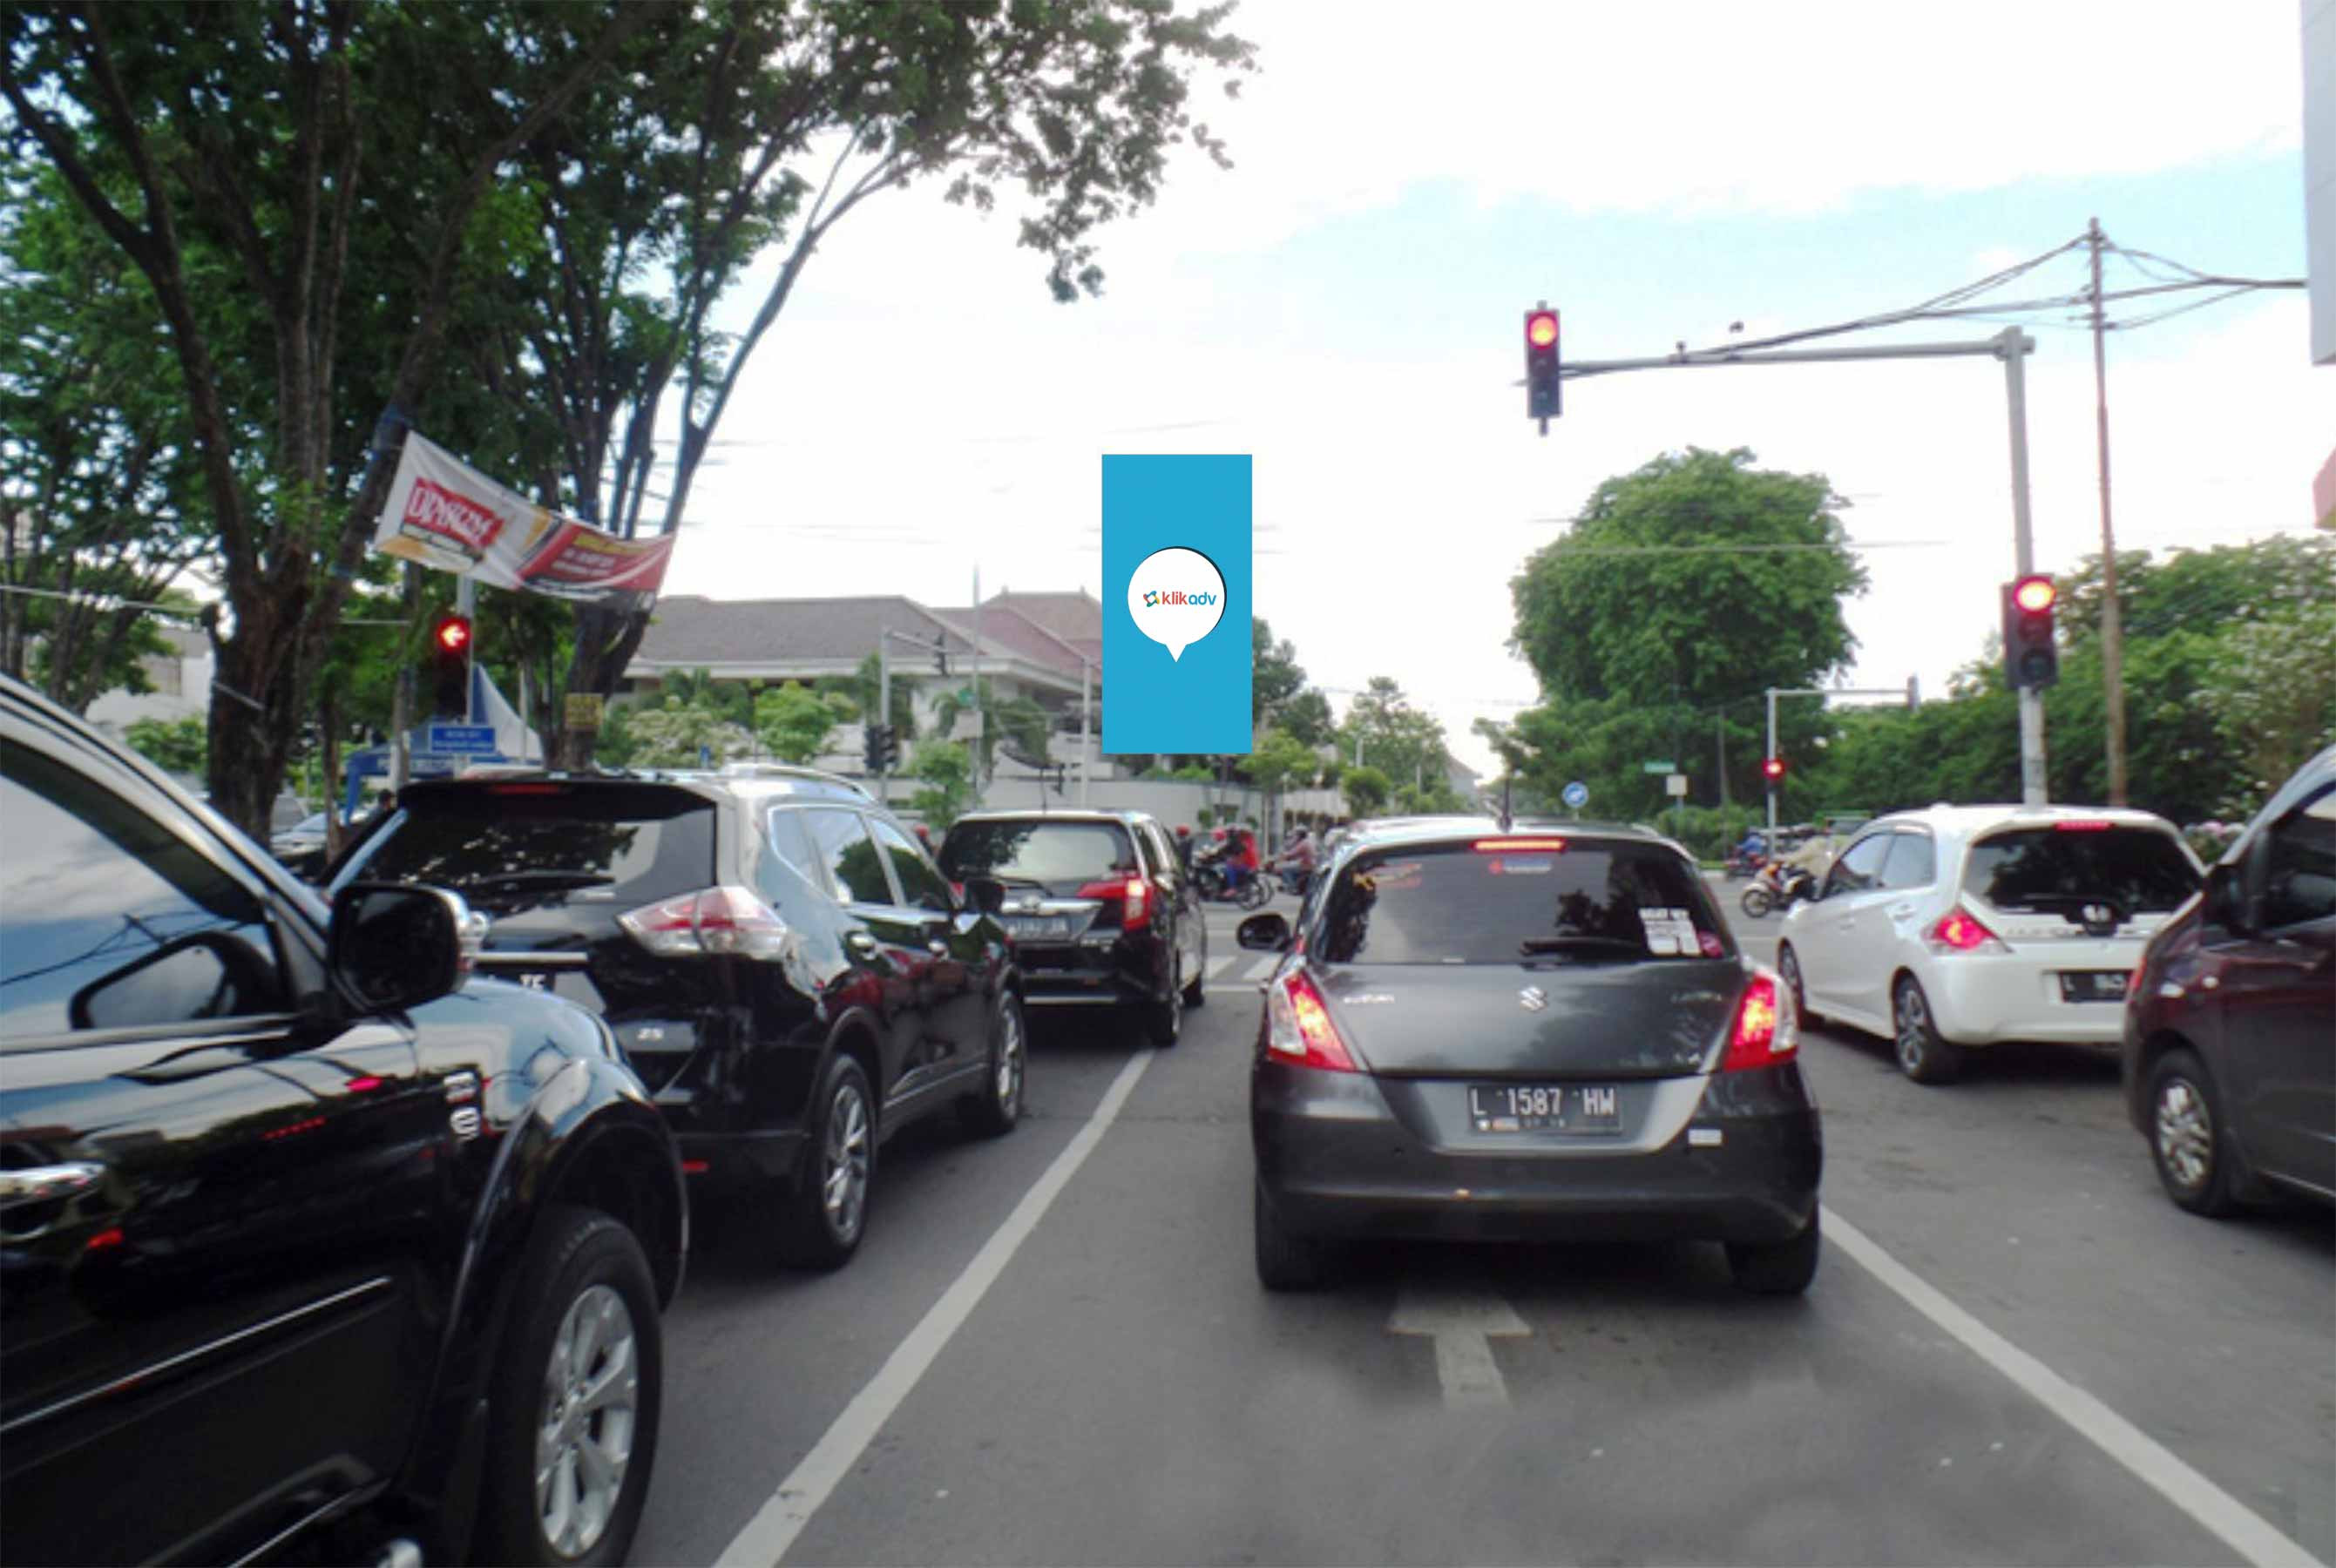plate: (1468, 1087, 1621, 1136)
